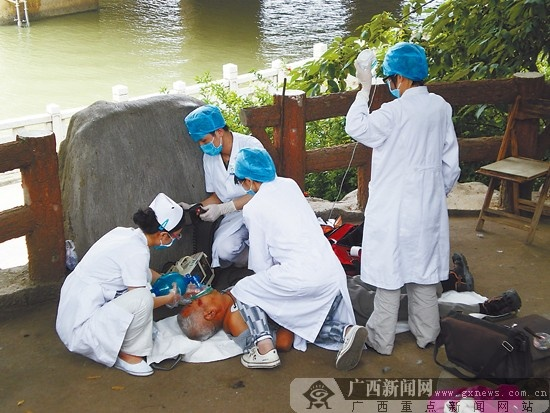falling: (168, 245, 548, 345)
